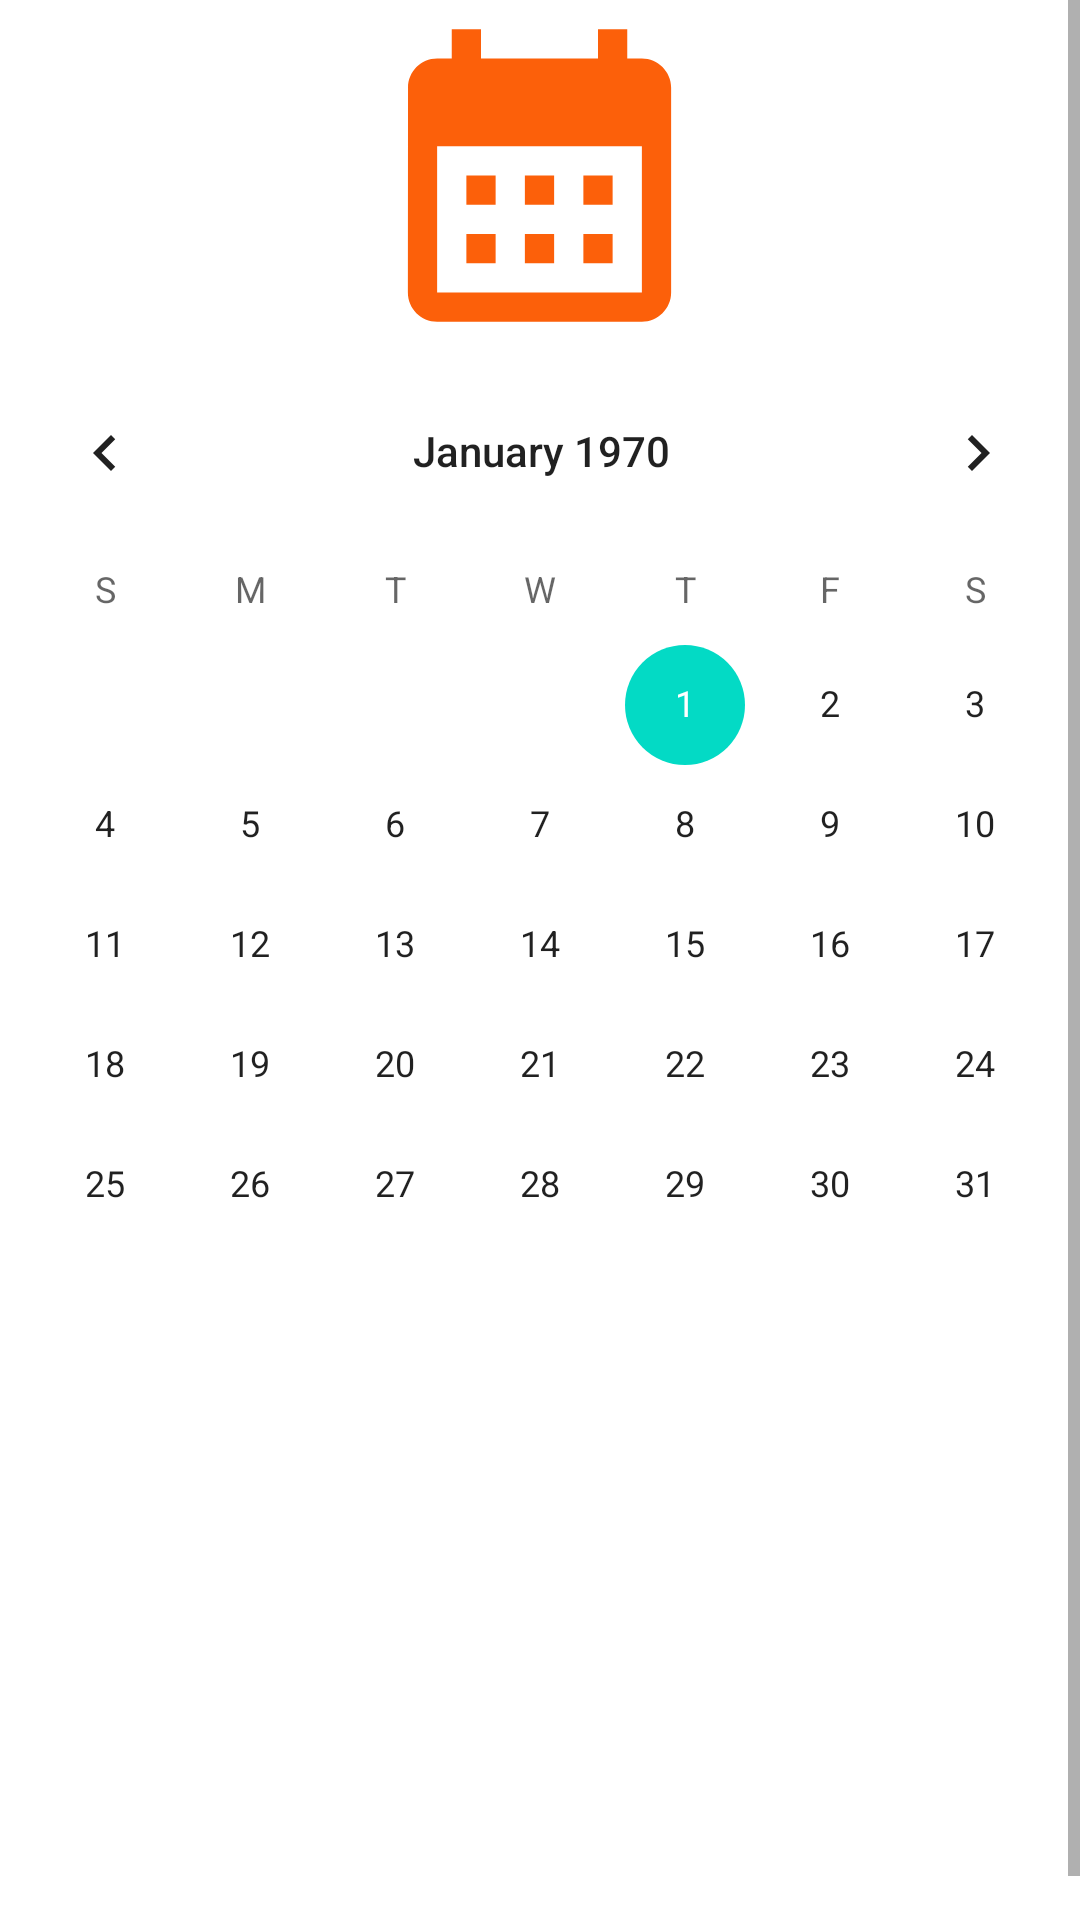

Point at icon controls on the screen. Image size 1080px x 1920px, points as (x=x, y=y).
calendar month: (x=539, y=175)
